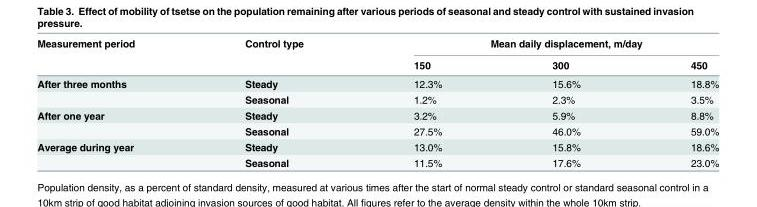table: (36, 36, 718, 168)
table column: (189, 36, 357, 168), (36, 36, 189, 168), (357, 36, 496, 168), (496, 36, 634, 168), (634, 36, 718, 168)
table column header: (36, 36, 718, 73)
table row: (36, 53, 718, 73), (36, 73, 718, 91), (36, 36, 718, 53), (36, 91, 718, 107), (36, 122, 718, 138), (36, 138, 718, 154), (36, 107, 718, 122), (36, 154, 718, 168)
table spanning cell: (189, 36, 357, 73), (357, 36, 718, 53), (36, 36, 189, 73), (36, 73, 189, 107), (36, 107, 189, 138), (36, 138, 189, 168)
